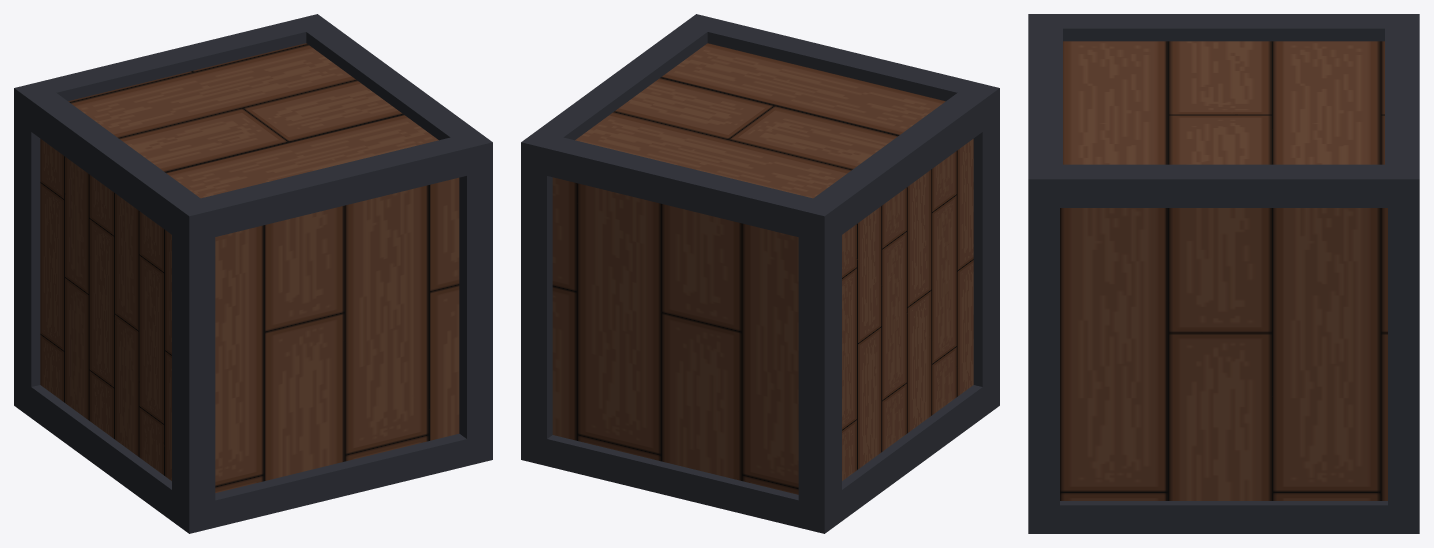
3 renders of one model, left to right at view 1: azimuth 30°, elevation 25°; view 2: azimuth 150°, elevation 25°; view 3: azimuth 270°, elevation 25°, orthographic. The views are drawn at different scales.
Parts seen in each view (by area): view 1: Cube.026; view 2: Cube.026; view 3: Cube.026.
Part boxes in pixels (x1,y1,x2,y2): Cube.026: [14, 14, 492, 533]; Cube.026: [521, 14, 999, 533]; Cube.026: [1028, 14, 1419, 533].
Size of the model in its own units: 28.02 by 28.02 by 28.02.
Materials: 2 (2 with a texture image).
